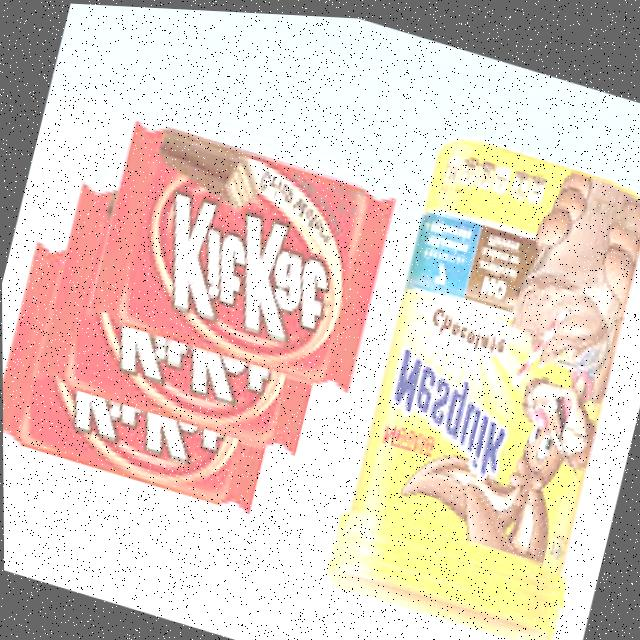kitkat: (86, 111, 399, 394)
